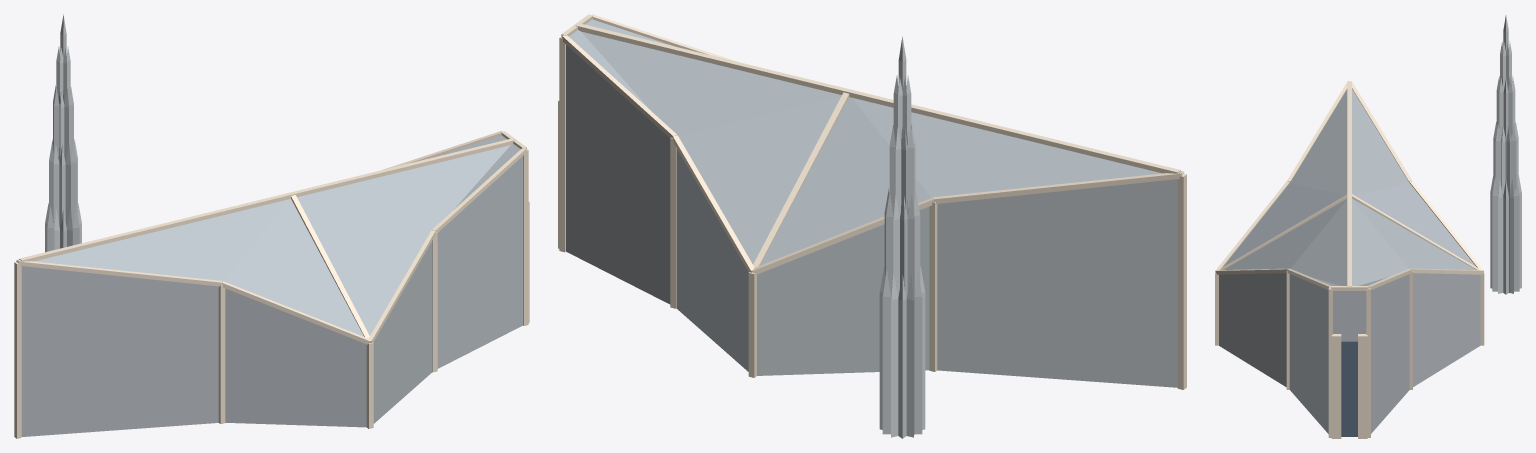
The model's file is la-christ-cathedral.glb.
3 views of the same model, side by side, from view 1: azimuth 30°, elevation 25°; view 2: azimuth 150°, elevation 25°; view 3: azimuth 270°, elevation 25° (orthographic). The views are drawn at different scales.
Visible parts, largest first — view 1: Christ Cathedral; view 2: Christ Cathedral; view 3: Christ Cathedral.
Part boxes in pixels (x1,y1,x2,y2): Christ Cathedral: (14, 14, 529, 438); Christ Cathedral: (558, 14, 1186, 438); Christ Cathedral: (1215, 15, 1521, 438).
Size of the model in its own units: 118 by 72 by 73.02.
